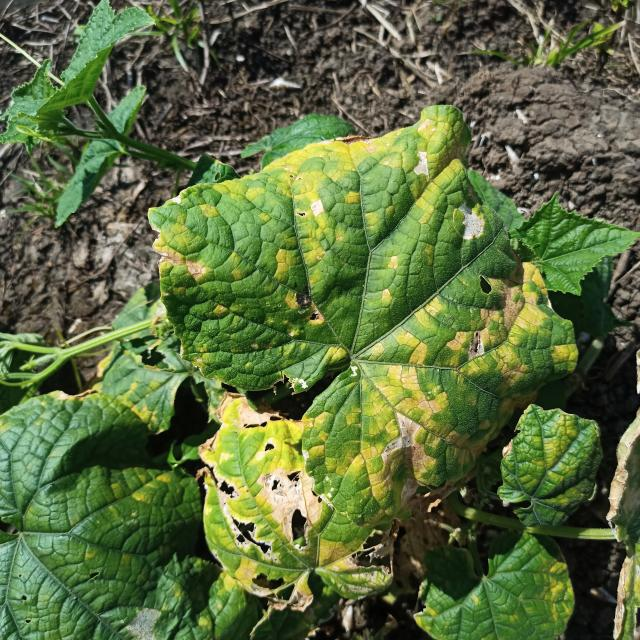disease_cucumber: (153, 106, 568, 583)
